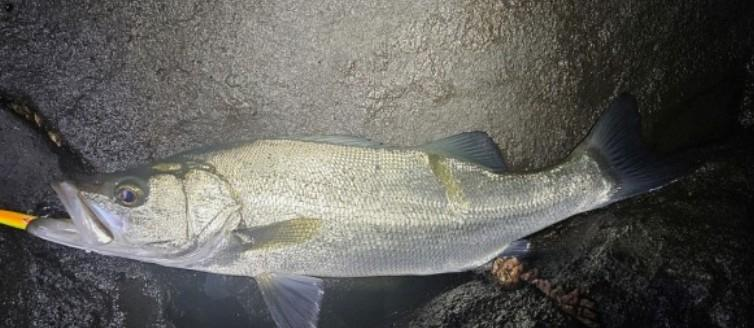fish: (23, 95, 689, 327)
